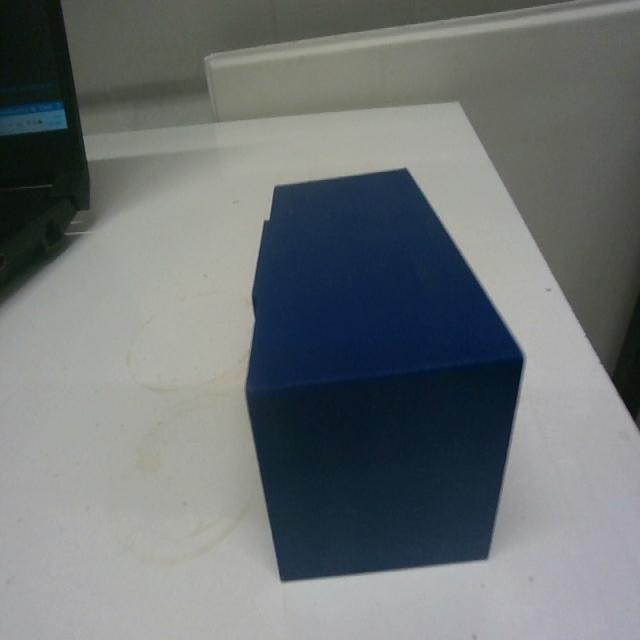Blue Cuboid: (242, 163, 526, 581)
